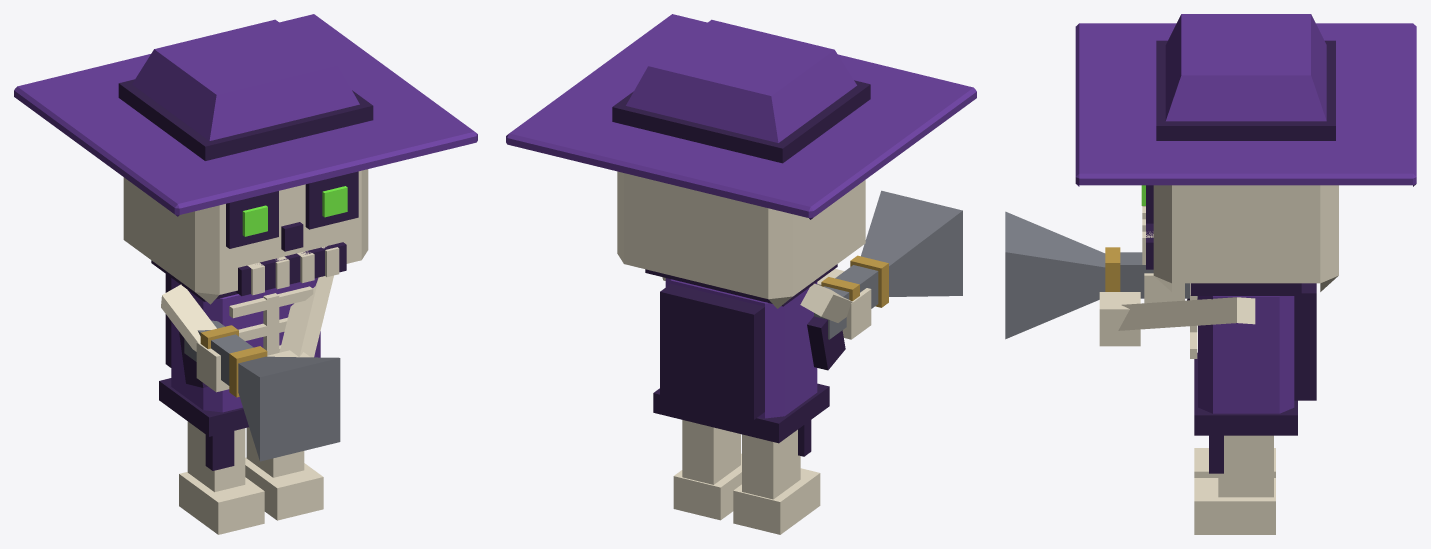
Rendered from shotgunner_r4.glb.
The picture shows the model from 3 angles, left to right: view 1: azimuth 30°, elevation 25°; view 2: azimuth 150°, elevation 25°; view 3: azimuth 270°, elevation 25°; orthographic projection. The views are drawn at different scales.
Visible parts, largest first — view 1: shotgunner_r4_mesh; view 2: shotgunner_r4_mesh; view 3: shotgunner_r4_mesh.
Boxes of the visible parts, x1,y1,x2,y2 form: shotgunner_r4_mesh: [14, 14, 477, 534]; shotgunner_r4_mesh: [506, 14, 976, 534]; shotgunner_r4_mesh: [1005, 14, 1416, 534].
Size of the model in its own units: 1.07 by 1.5 by 1.21.
Materials: 1 (1 with a texture image).
